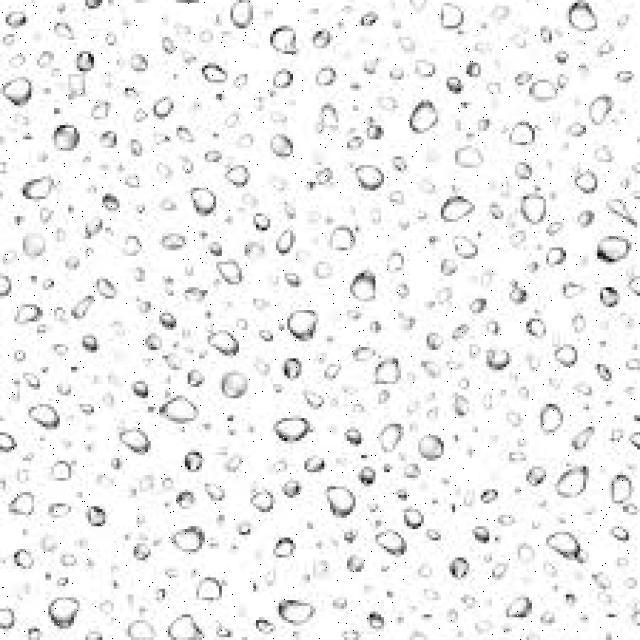raindrop: (584, 226, 638, 274), (40, 588, 88, 640), (208, 248, 256, 299), (371, 520, 420, 566), (279, 297, 322, 349), (158, 392, 206, 438), (603, 463, 640, 518), (347, 256, 384, 308), (24, 396, 68, 438), (436, 190, 482, 230), (268, 594, 319, 630), (272, 408, 314, 451), (21, 166, 64, 208), (554, 458, 594, 503), (192, 570, 239, 608), (547, 528, 589, 570), (322, 482, 362, 526), (264, 20, 302, 66), (206, 319, 248, 360), (0, 70, 40, 113), (563, 0, 603, 43), (402, 97, 440, 142), (374, 416, 411, 462), (448, 225, 488, 267), (216, 366, 254, 409), (583, 86, 617, 134), (114, 422, 156, 460), (351, 158, 393, 196), (524, 67, 561, 109), (10, 296, 50, 334), (90, 269, 132, 305), (474, 342, 516, 378), (572, 166, 611, 204), (327, 217, 364, 257), (432, 0, 473, 36), (163, 608, 209, 640), (414, 428, 449, 470), (372, 351, 406, 394), (170, 521, 210, 557), (518, 186, 552, 228), (448, 144, 491, 177), (16, 225, 54, 262), (6, 484, 40, 525), (154, 81, 188, 122), (246, 482, 282, 520), (473, 478, 512, 513), (569, 418, 603, 458), (154, 228, 196, 260), (317, 93, 353, 130), (501, 279, 539, 314), (214, 162, 254, 195), (49, 125, 83, 163), (119, 612, 164, 640), (518, 460, 550, 498), (270, 531, 304, 565), (504, 588, 538, 622), (228, 0, 262, 34), (544, 238, 576, 274), (540, 398, 570, 436), (264, 128, 296, 163), (84, 504, 118, 536), (270, 222, 303, 254), (308, 22, 341, 54), (312, 65, 344, 97), (202, 61, 238, 89), (5, 548, 38, 578), (72, 294, 101, 328), (525, 310, 554, 344), (51, 459, 81, 491), (192, 183, 216, 223), (47, 495, 80, 524), (180, 450, 213, 479), (511, 116, 540, 149), (598, 280, 626, 314), (72, 47, 101, 79), (552, 336, 582, 366), (128, 49, 156, 81), (399, 502, 432, 528), (590, 356, 616, 389), (89, 127, 123, 152), (567, 312, 595, 339), (446, 553, 471, 583), (0, 428, 22, 460), (272, 60, 296, 89), (456, 394, 481, 419), (472, 522, 494, 547)
